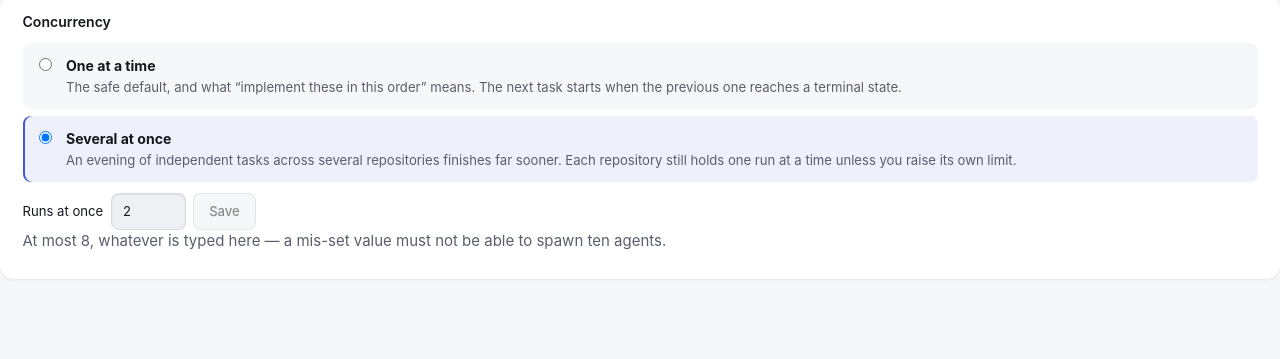
Test: ConcurrencySection › renders the service's refusal rather than swallowing it
Replace the text in the number field labelled "Runs at once" with "5" at (148, 212), box [111,193,186,230]
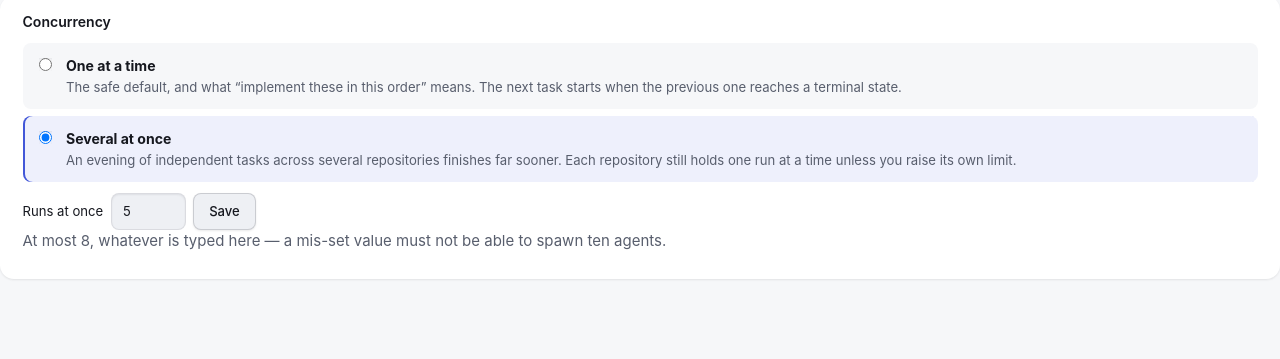
Click the button "Save" at (224, 212), box [193,193,256,230]
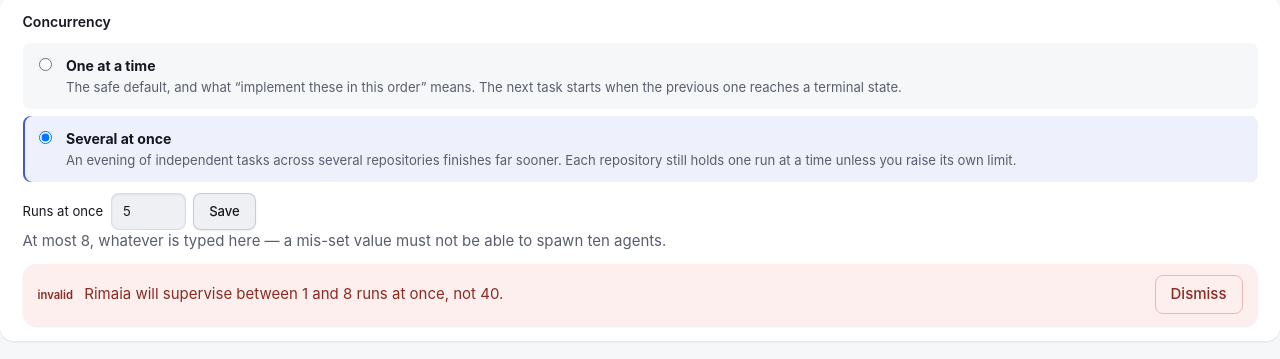
expect the message shows "between 1 and 8 runs at once": met, box [84,284,503,303]
